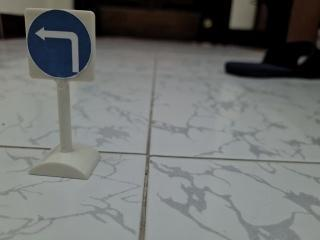left: (15, 3, 107, 94)
